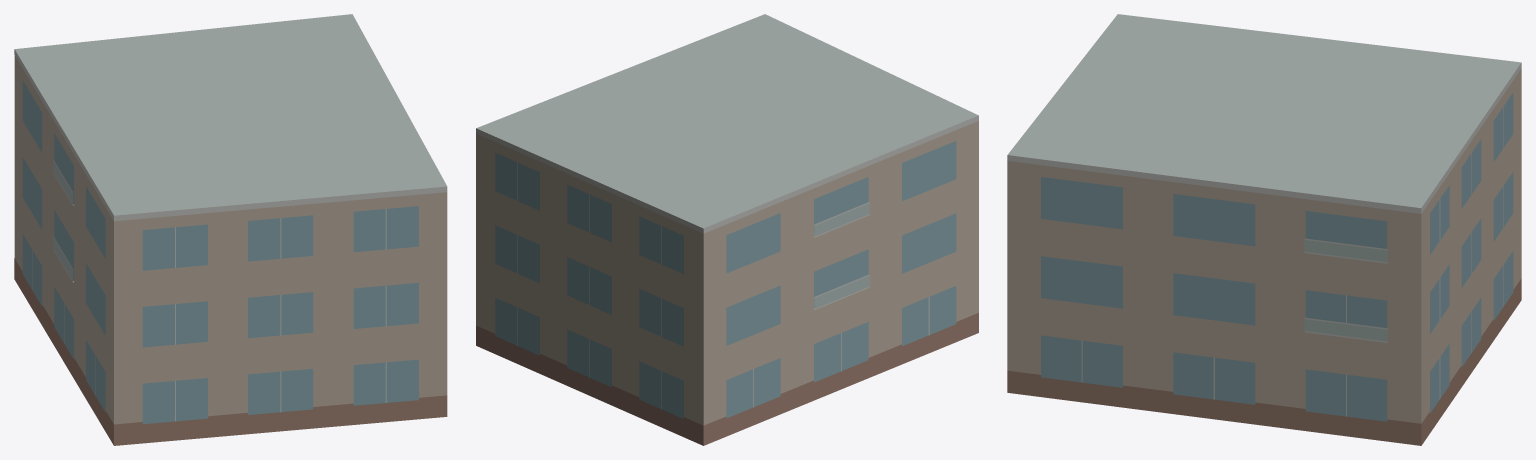
The model's file is survey-upis-32879197.glb.
The picture shows the model from 3 angles, left to right: view 1: azimuth 30°, elevation 25°; view 2: azimuth 150°, elevation 25°; view 3: azimuth 270°, elevation 25°; orthographic projection. The views are drawn at different scales.
Parts seen in each view (by area): view 1: survey-upis-32879197.tmp; view 2: survey-upis-32879197.tmp; view 3: survey-upis-32879197.tmp.
Boxes of the visible parts, x1,y1,x2,y2 form: survey-upis-32879197.tmp: (14, 14, 447, 445); survey-upis-32879197.tmp: (476, 14, 978, 445); survey-upis-32879197.tmp: (1007, 14, 1521, 445).
Bounding box in the file's own units: 17.71 × 10.1 × 19.81.
